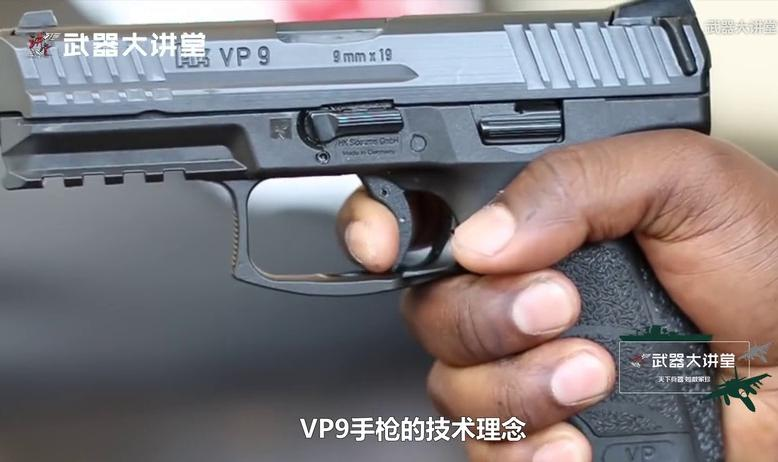gun: (1, 1, 778, 462)
